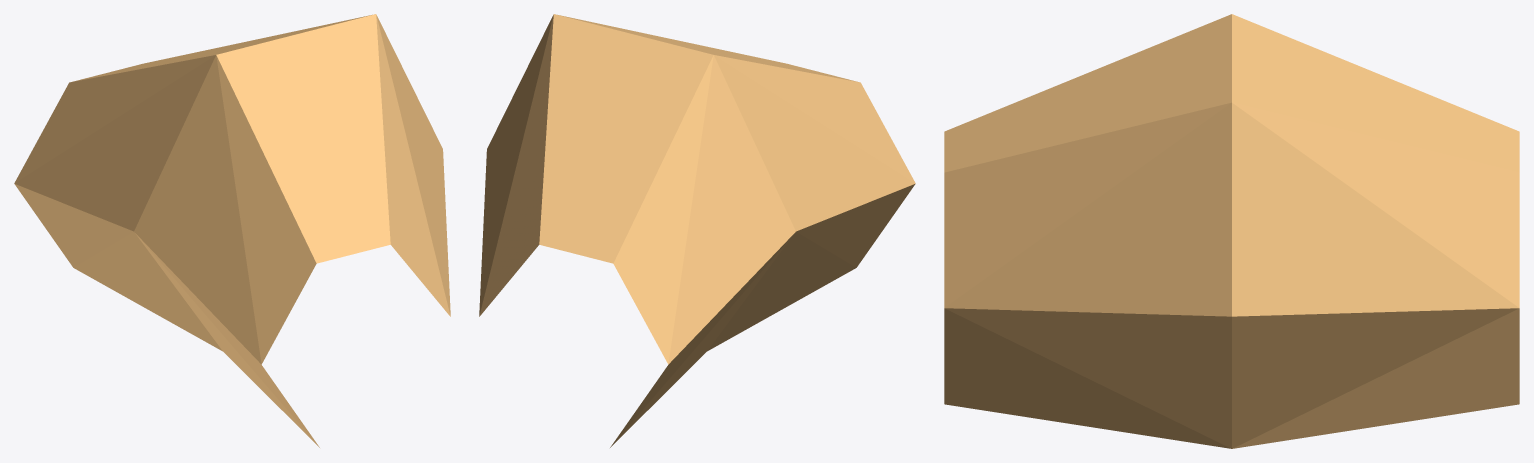
Rendered from FeedBody.glb.
3 renders of one model, left to right at view 1: azimuth 30°, elevation 25°; view 2: azimuth 150°, elevation 25°; view 3: azimuth 270°, elevation 25°, orthographic. The views are drawn at different scales.
Visible parts, largest first — view 1: Feed Body; view 2: Feed Body; view 3: Feed Body.
Boxes of the visible parts, x1,y1,x2,y2 form: Feed Body: (14,14,450,447); Feed Body: (479,14,915,447); Feed Body: (944,14,1519,448).
Size of the model in its own units: 0.2069 by 0.1924 by 0.2869.
